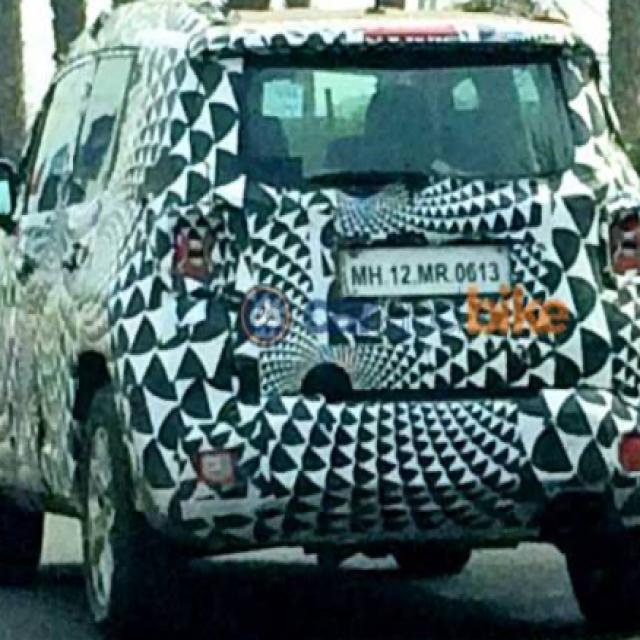license_plate: (336, 251, 510, 290)
